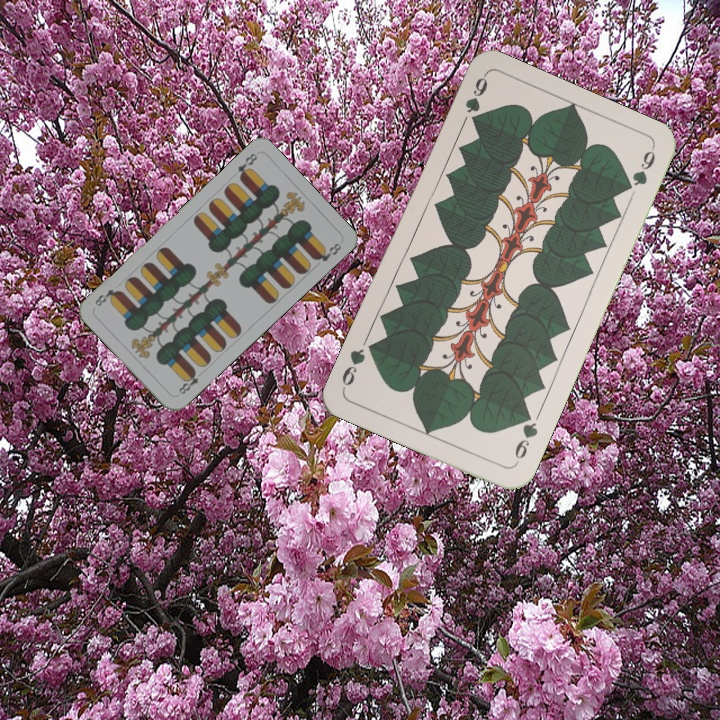E8: (175, 366, 206, 397), (234, 149, 260, 182)
G9: (510, 408, 541, 467), (461, 71, 491, 126)
